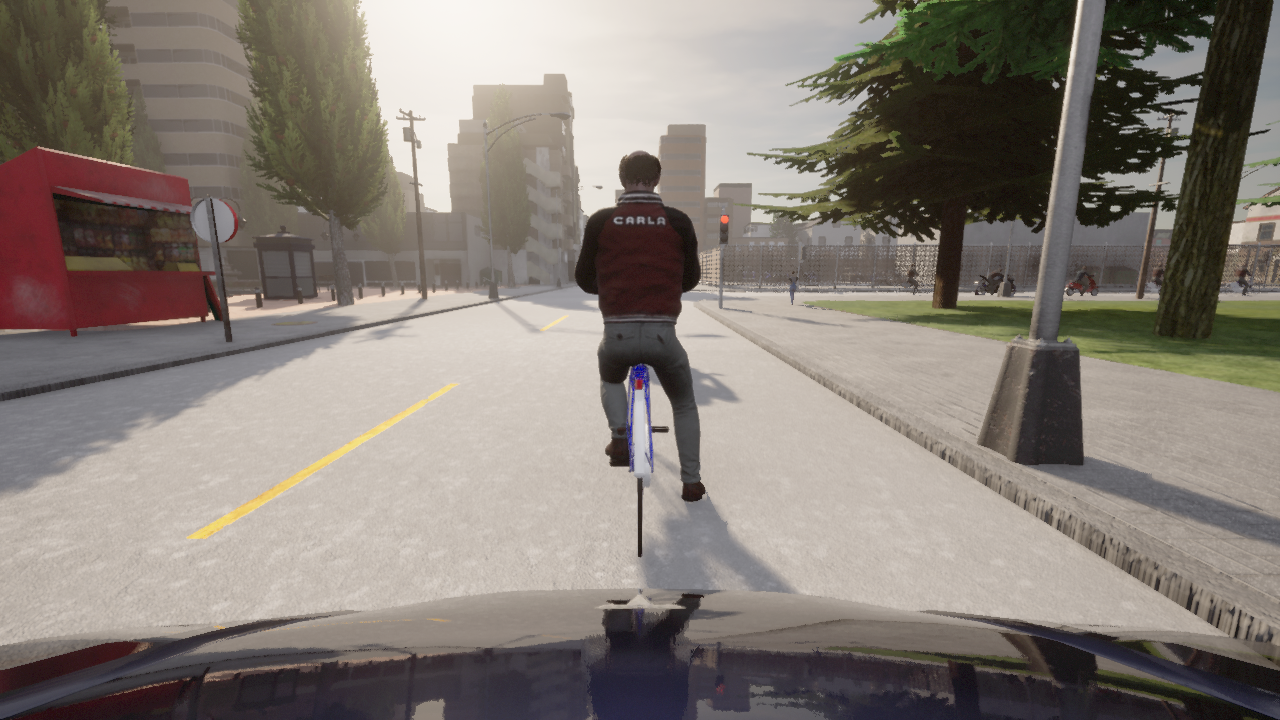cyclist: (0, 588, 1279, 719), (609, 364, 668, 557), (973, 273, 1015, 295), (1065, 273, 1098, 295), (1225, 277, 1259, 295), (898, 277, 931, 295), (841, 268, 864, 281), (736, 266, 755, 281), (763, 270, 787, 281), (800, 271, 820, 281), (1144, 282, 1159, 295), (877, 269, 893, 278), (865, 271, 878, 281), (772, 273, 787, 281)
pedestrian: (785, 270, 799, 305)
